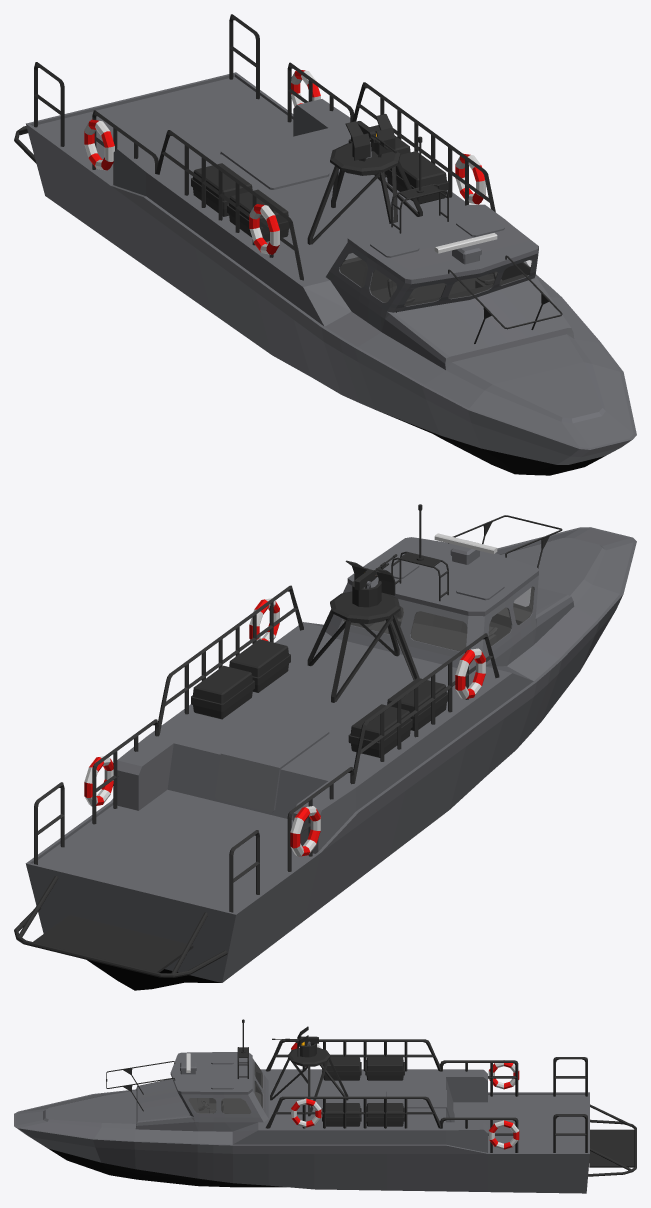
3 views of the same model, one above another, from view 1: azimuth 30°, elevation 25°; view 2: azimuth 150°, elevation 25°; view 3: azimuth 270°, elevation 25° (orthographic). The views are drawn at different scales.
Parts seen in each view (by area): view 1: Cube, Cylinder, Cube.001, Cube.006, Cube.004, Cube.005, Cube.003, Cube.008; view 2: Cube, Cube.001, Cylinder, Cube.006, Cube.004, Cube.005, Cube.003; view 3: Cube, Cylinder, Cube.006, Cube.001, Cube.004, Cube.005, Cube.003, Cube.008.
Part boxes in pixels (x1=…): Cube: x1=14, y1=14, x2=636, y2=475; Cylinder: x1=307, y1=143, x2=422, y2=244; Cube.001: x1=220, y1=137, x2=329, y2=189; Cube.006: x1=339, y1=254, x2=531, y2=312; Cube.004: x1=340, y1=253, x2=531, y2=305; Cube.005: x1=345, y1=114, x2=396, y2=160; Cube.003: x1=370, y1=235, x2=419, y2=257; Cube.008: x1=456, y1=214, x2=504, y2=236; Cube: x1=14, y1=504, x2=636, y2=990; Cube.001: x1=214, y1=717, x2=329, y2=812; Cylinder: x1=307, y1=591, x2=419, y2=702; Cube.006: x1=343, y1=586, x2=534, y2=651; Cube.004: x1=344, y1=587, x2=533, y2=650; Cube.005: x1=345, y1=554, x2=397, y2=595; Cube.003: x1=456, y1=578, x2=504, y2=600; Cube: x1=14, y1=1019, x2=636, y2=1193; Cylinder: x1=270, y1=1047, x2=348, y2=1116; Cube.006: x1=188, y1=1062, x2=262, y2=1113; Cube.001: x1=386, y1=1090, x2=454, y2=1122; Cube.004: x1=189, y1=1063, x2=262, y2=1113; Cube.005: x1=272, y1=1026, x2=318, y2=1056; Cube.003: x1=211, y1=1053, x2=233, y2=1064; Cube.008: x1=211, y1=1078, x2=233, y2=1089.
Bounding box in the file's own units: 798 × 979 × 3337.
